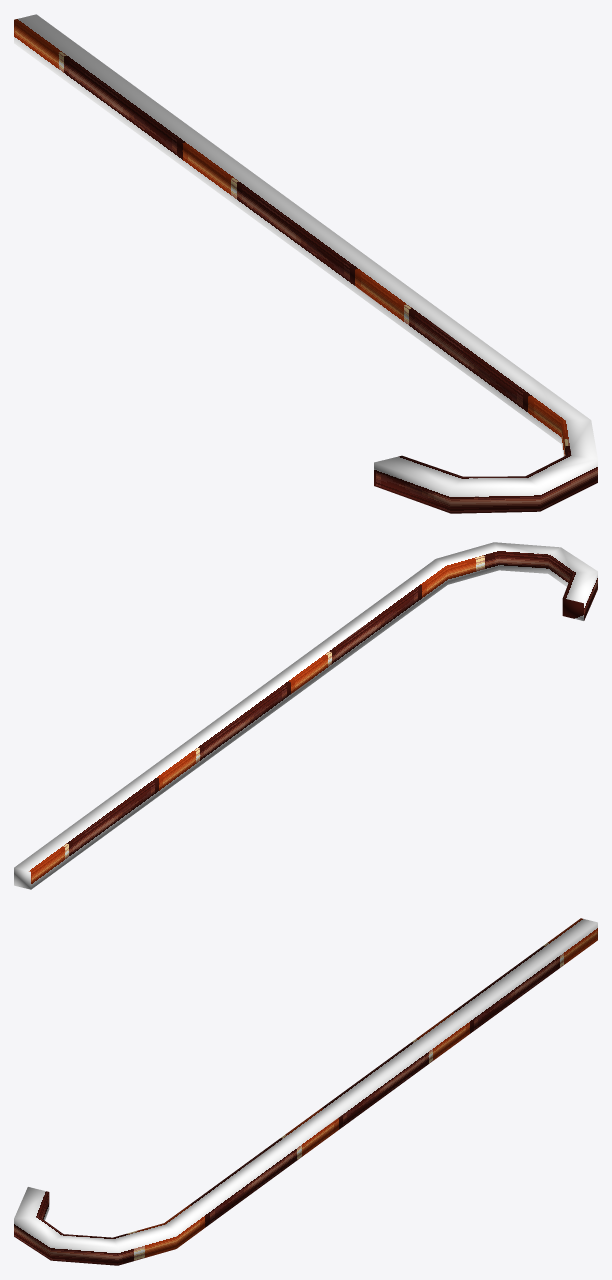
Rendered from 0733sbim02_11.gltf.
3 renders of one model, top to bottom at view 1: azimuth 30°, elevation 25°; view 2: azimuth 150°, elevation 25°; view 3: azimuth 330°, elevation 25°, orthographic. The views are drawn at different scales.
Visible parts, largest first — view 1: 0733sbim02_11; view 2: 0733sbim02_11; view 3: 0733sbim02_11.
Boxes of the visible parts, <box> form: 0733sbim02_11: <box>14,14,597,513</box>; 0733sbim02_11: <box>14,542,597,889</box>; 0733sbim02_11: <box>14,918,597,1265</box>.
Size of the model in its own units: 0.2283 by 0.0249 by 1.17.
Materials: 1 (1 with a texture image).
